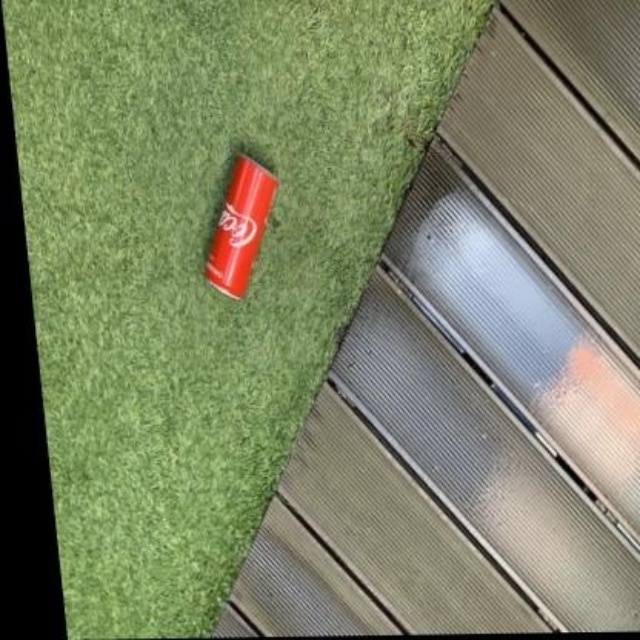trash: (205, 155, 277, 298)
